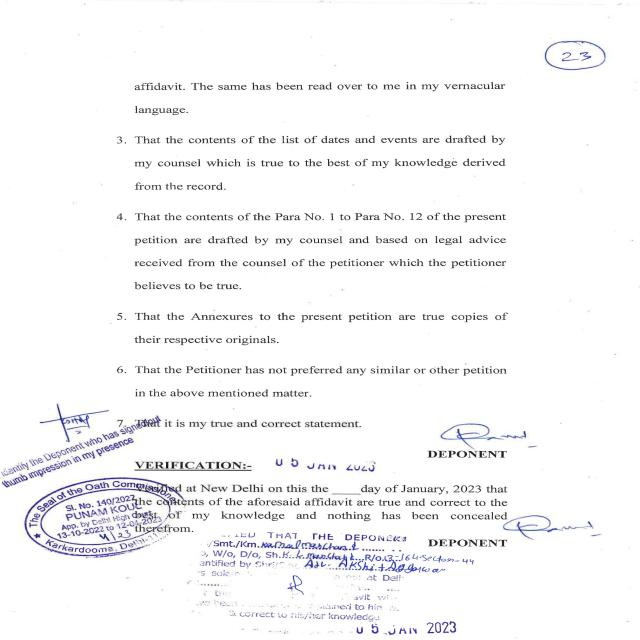page-number: (388, 0, 640, 73)
